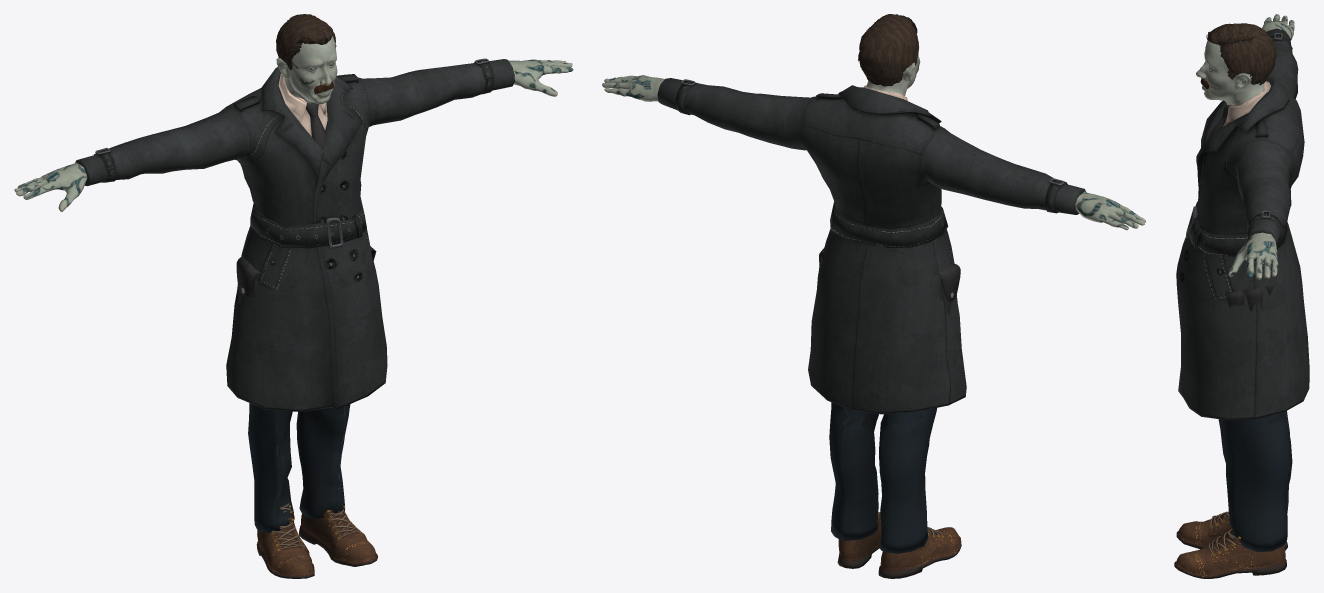
The model's file is vilao.obj.
3 renders of one model, left to right at view 1: azimuth 30°, elevation 25°; view 2: azimuth 150°, elevation 25°; view 3: azimuth 270°, elevation 25°, orthographic.
Parts seen in each view (by area): view 1: Tops, Bottoms, Body, Shoes, Hair; view 2: Tops, Bottoms, Shoes, Hair, Body; view 3: Tops, Bottoms, Shoes, Body, Hair.
Part boxes in pixels (x1,y1,x2,y2): Tops: (75, 58, 514, 411); Bottoms: (236, 246, 376, 533); Body: (14, 36, 573, 211); Shoes: (256, 503, 377, 578); Hair: (276, 14, 336, 69); Tops: (657, 78, 1085, 414); Bottoms: (819, 248, 960, 553); Shoes: (837, 512, 961, 578); Hair: (858, 14, 918, 86); Body: (602, 34, 1145, 230); Tops: (1176, 28, 1309, 420); Bottoms: (1218, 284, 1292, 551); Shoes: (1174, 511, 1287, 578); Body: (1196, 14, 1294, 279); Hair: (1206, 23, 1276, 85).
Size of the model in its own units: 193 by 181 by 41.74.
Materials: 6 (6 with a texture image).
